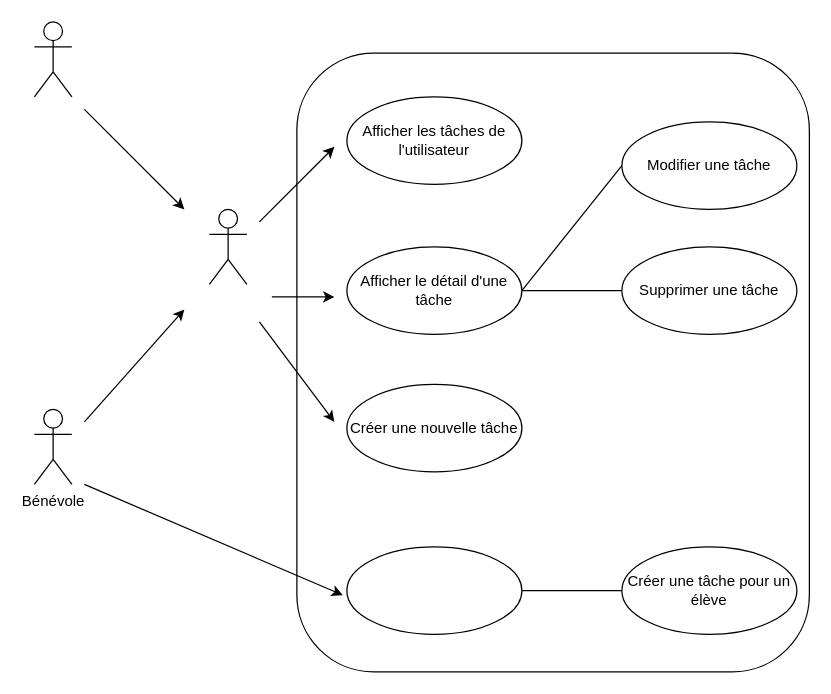
Some shapes in this 831 by 694 pixel diagram are drawn without their labels. The centre of each missing label's shape, as x and y in pixels:
Sélectionner un élève: point (434, 590)
Utilisateur: point (227, 246)
élève: point (52, 59)
